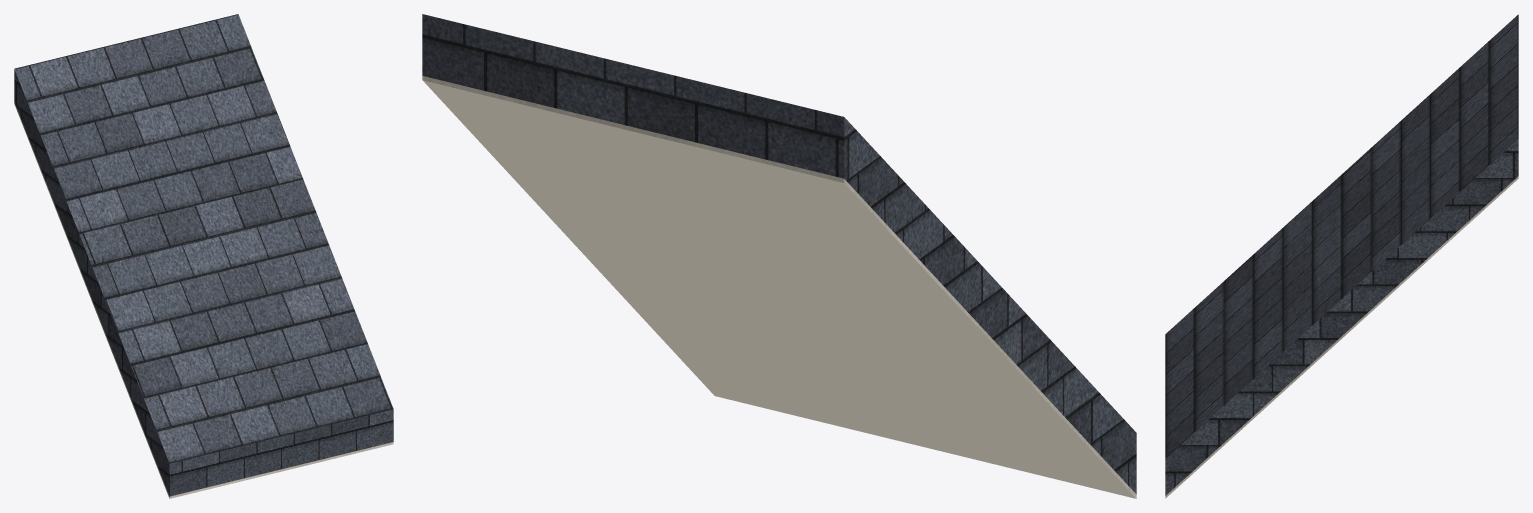
The model's file is roof_slope_g.glb.
3 views of the same model, side by side, from view 1: azimuth 30°, elevation 25°; view 2: azimuth 150°, elevation 25°; view 3: azimuth 270°, elevation 25° (orthographic). The views are drawn at different scales.
Parts seen in each view (by area): view 1: roof_slope_g_shingle_g, roof_slope_g_plaster; view 2: roof_slope_g_plaster, roof_slope_g_shingle_g; view 3: roof_slope_g_shingle_g, roof_slope_g_plaster.
Boxes of the visible parts, x1,y1,x2,y2 form: roof_slope_g_shingle_g: [14, 14, 393, 496]; roof_slope_g_plaster: [14, 102, 393, 498]; roof_slope_g_plaster: [422, 76, 1136, 498]; roof_slope_g_shingle_g: [422, 14, 1136, 494]; roof_slope_g_shingle_g: [1165, 14, 1518, 495]; roof_slope_g_plaster: [1165, 176, 1518, 498].
Bounding box in the file's own units: 2 × 2.7 × 2.4.
Materials: 2 (2 with a texture image).
